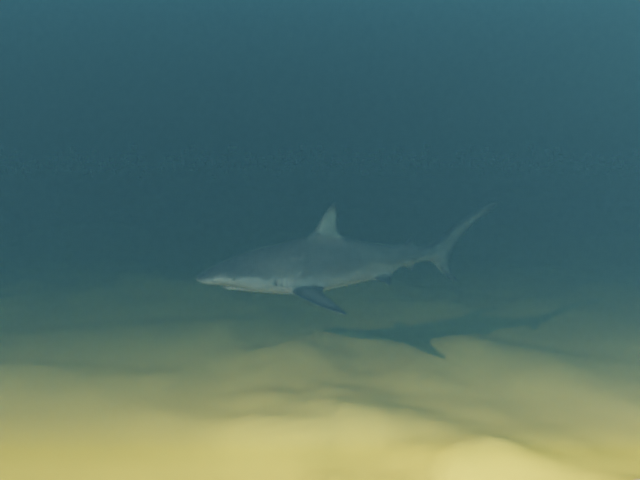Carribean Shark.001: (195, 202, 498, 314)
